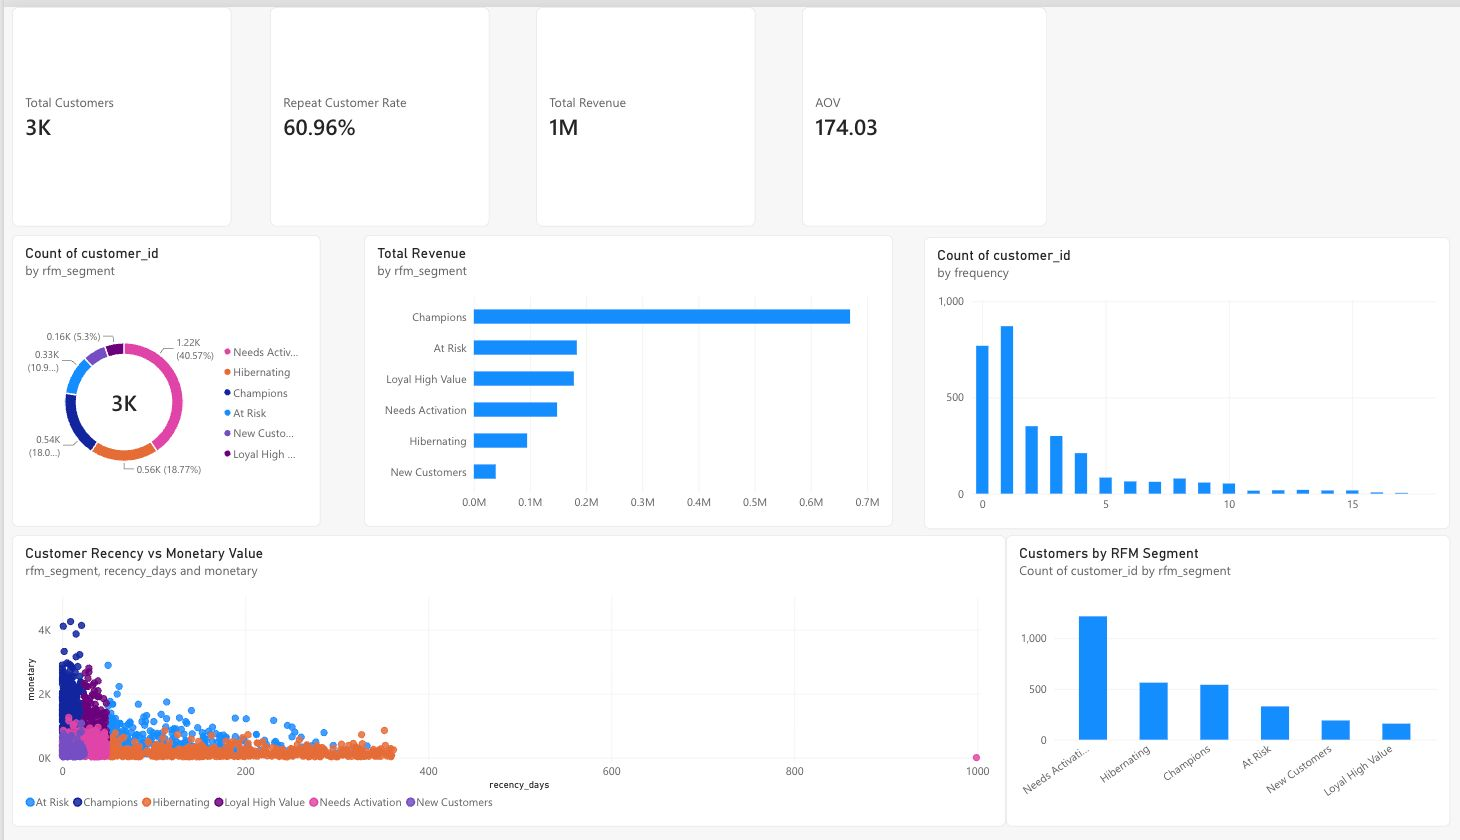

What the dashboard file says about the page in this screenshot:
{"tool":"powerbi","page":{"name":"Customer & RFM","canvas":[1920,1080],"ordinal":1},"visuals":[{"type":"cardVisual","fields":{"Data":["customer_events.Total Customers"]},"box":[10,0,280,280],"z":0},{"type":"cardVisual","fields":{"Data":["customer_events.Repeat Customer Rate"]},"box":[338.4,0,280,280],"z":1000},{"type":"cardVisual","fields":{"Data":["customer_events.Total Revenue"]},"box":[679.2,0,280,280],"z":2000},{"type":"cardVisual","fields":{"Data":["customer_events.AOV"]},"box":[1017.6,0,312,280.8],"z":3000},{"type":"donutChart","fields":{"Category":["customer_rfm.rfm_segment"],"Y":["CountNonNull(customer_rfm.customer_id)"]},"box":[9.6,290.4,393.6,372],"z":4000},{"type":"clusteredBarChart","fields":{"Category":["customer_rfm.rfm_segment"],"Y":["customer_events.Total Revenue"]},"box":[458.4,290.4,674.4,372],"z":5000},{"type":"clusteredColumnChart","fields":{"Category":["customer_rfm.frequency"],"Y":["CountNonNull(customer_rfm.customer_id)"]},"box":[1173.6,292.8,394,372],"z":6000},{"type":"scatterChart","title":"Customer Recency vs Monetary Value","fields":{"Series":["customer_rfm.rfm_segment"],"X":["customer_rfm.recency_days"],"Y":["customer_rfm.monetary"]},"box":[9.6,672,1267.2,372],"z":7000},{"type":"clusteredColumnChart","title":"Customers by RFM Segment","fields":{"Category":["customer_rfm.rfm_segment"],"Y":["CountNonNull(customer_rfm.customer_id)"]},"box":[1276.8,672,566.4,372],"z":8000}]}

Visuals, with their boxes in screenshot pixels (x1, y1, x2, y2), scaled from the page's 1920x1080 canvas onto the 1460x840 screenshot:
cardVisual - customer_events.Total Customers: rect(8, 0, 221, 218)
cardVisual - customer_events.Repeat Customer Rate: rect(257, 0, 470, 218)
cardVisual - customer_events.Total Revenue: rect(516, 0, 729, 218)
cardVisual - customer_events.AOV: rect(774, 0, 1011, 218)
donutChart - customer_rfm.rfm_segment x CountNonNull(customer_rfm.customer_id): rect(7, 226, 307, 515)
clusteredBarChart - customer_rfm.rfm_segment x customer_events.Total Revenue: rect(349, 226, 861, 515)
clusteredColumnChart - customer_rfm.frequency x CountNonNull(customer_rfm.customer_id): rect(892, 228, 1192, 517)
"Customer Recency vs Monetary Value" scatterChart: rect(7, 523, 971, 812)
"Customers by RFM Segment" clusteredColumnChart: rect(971, 523, 1402, 812)
